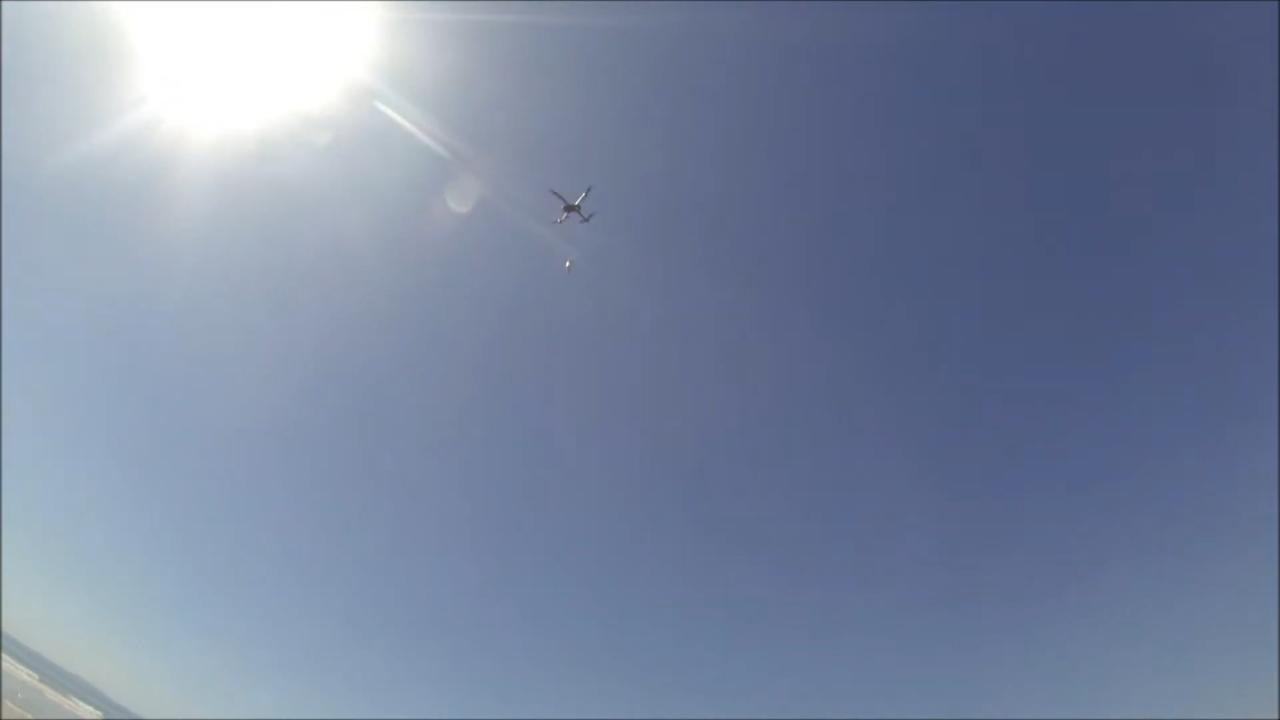Drone: (537, 175, 605, 233)
